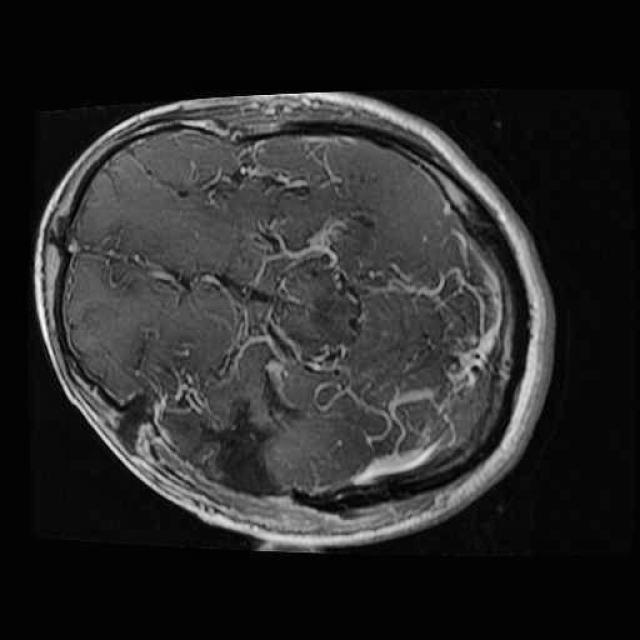Non-Tumor: (185, 376, 299, 520)
